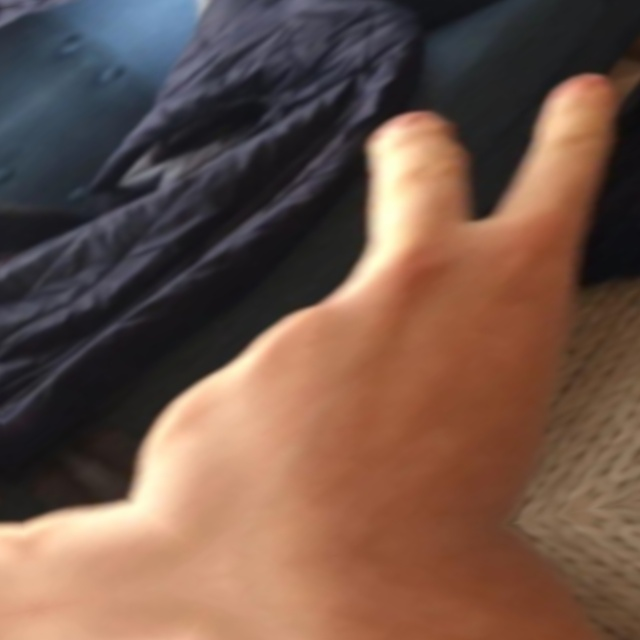Scissors: (0, 121, 34, 640)
